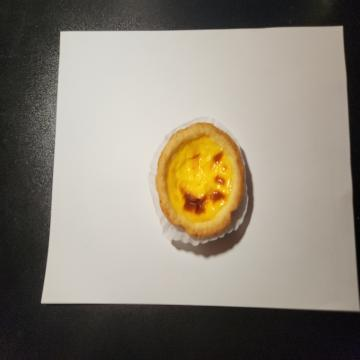EggTart: (155, 122, 246, 239)
